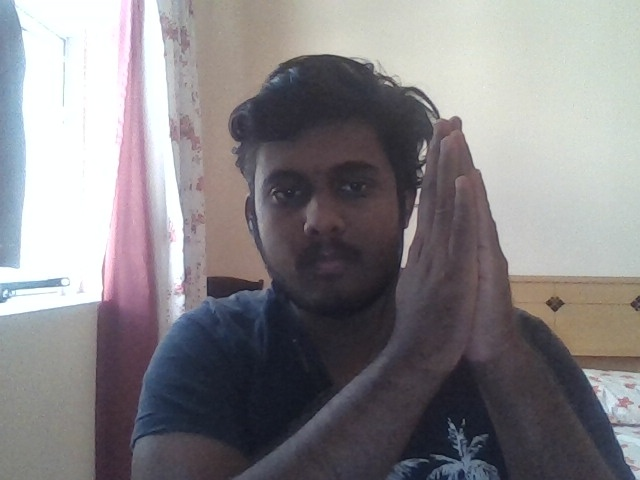thumbsup: (93, 175, 191, 350)
